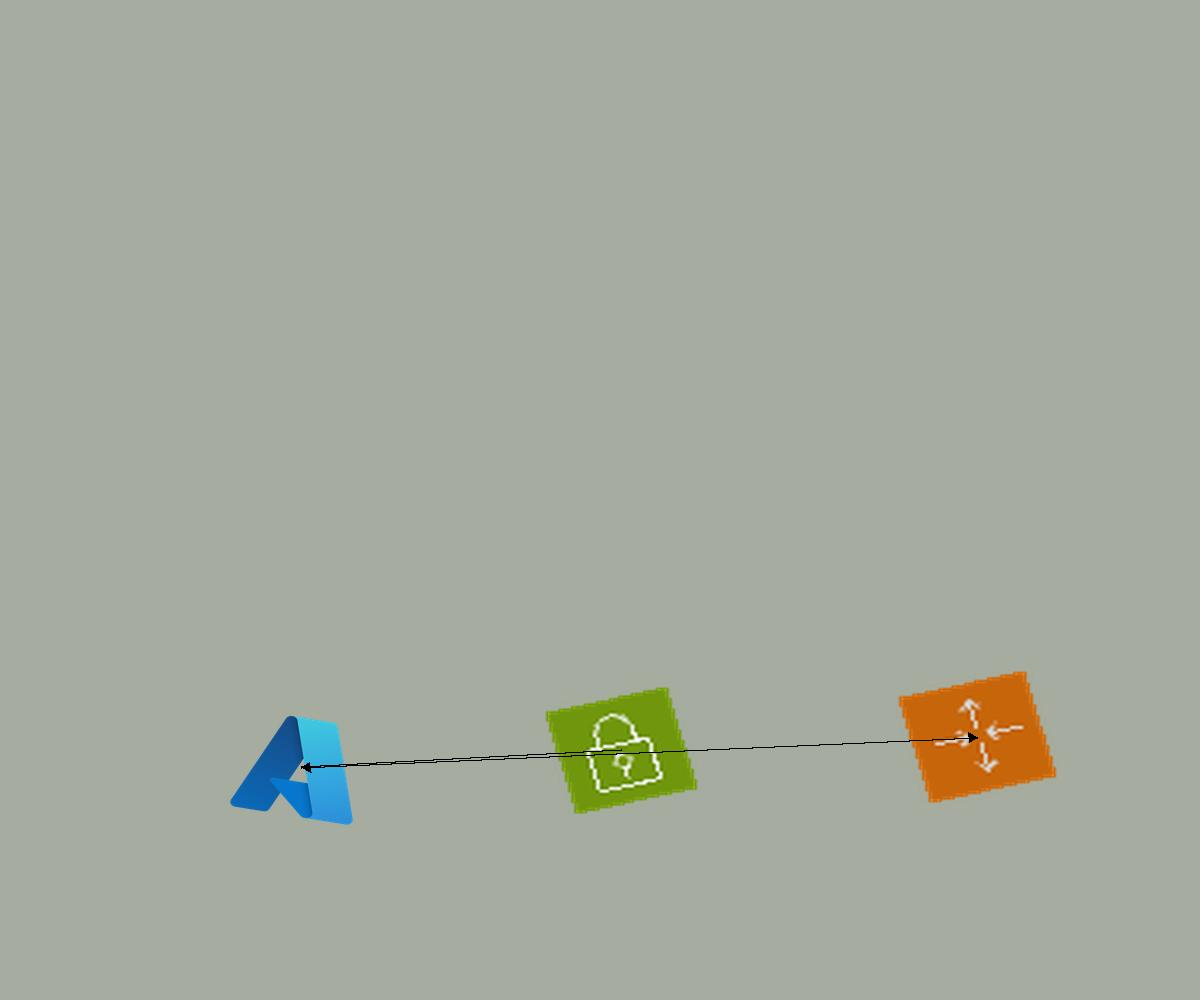AWS-Public-subnet: (543, 685, 700, 816)
AWS-Scaling-group: (896, 669, 1059, 805)
Azure_services: (222, 701, 381, 834)
